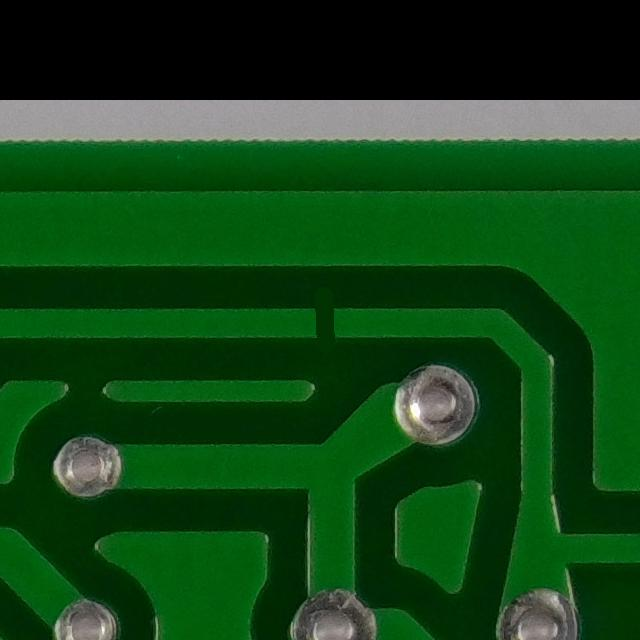open_circuit: (293, 287, 347, 353)
